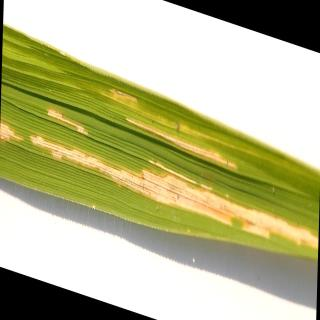Hawar-Daun: (30, 135, 318, 254), (100, 87, 238, 171), (48, 105, 87, 142), (0, 111, 24, 157)
